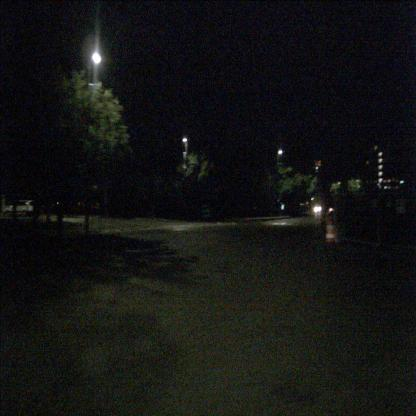movable_object-trafficcone: (325, 217, 336, 246)
vehicle-car: (3, 199, 34, 218), (314, 204, 321, 214)
